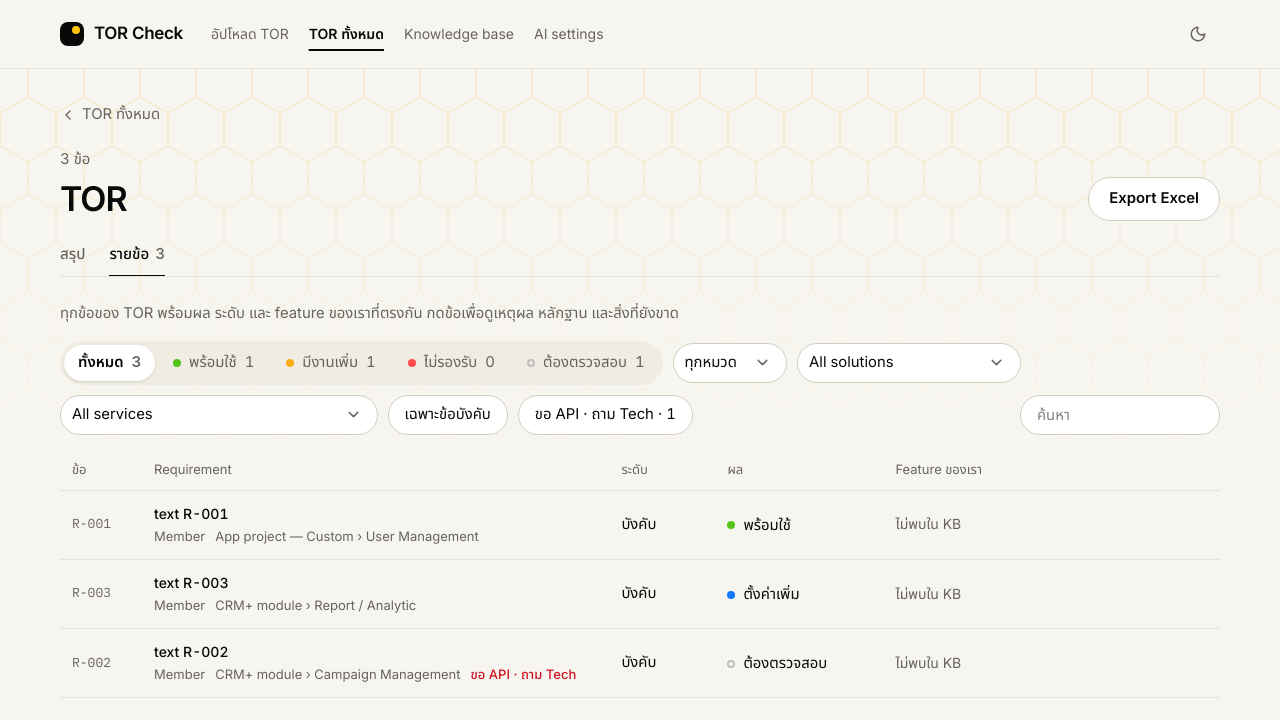
Test: solution and service in the matrix › filters by solution, by service and by the API tag, and clears them
Step 1. Select "CRM+ module" in the 2nd dropdown named "Solution" → (909, 363), box [797,343,1020,383]
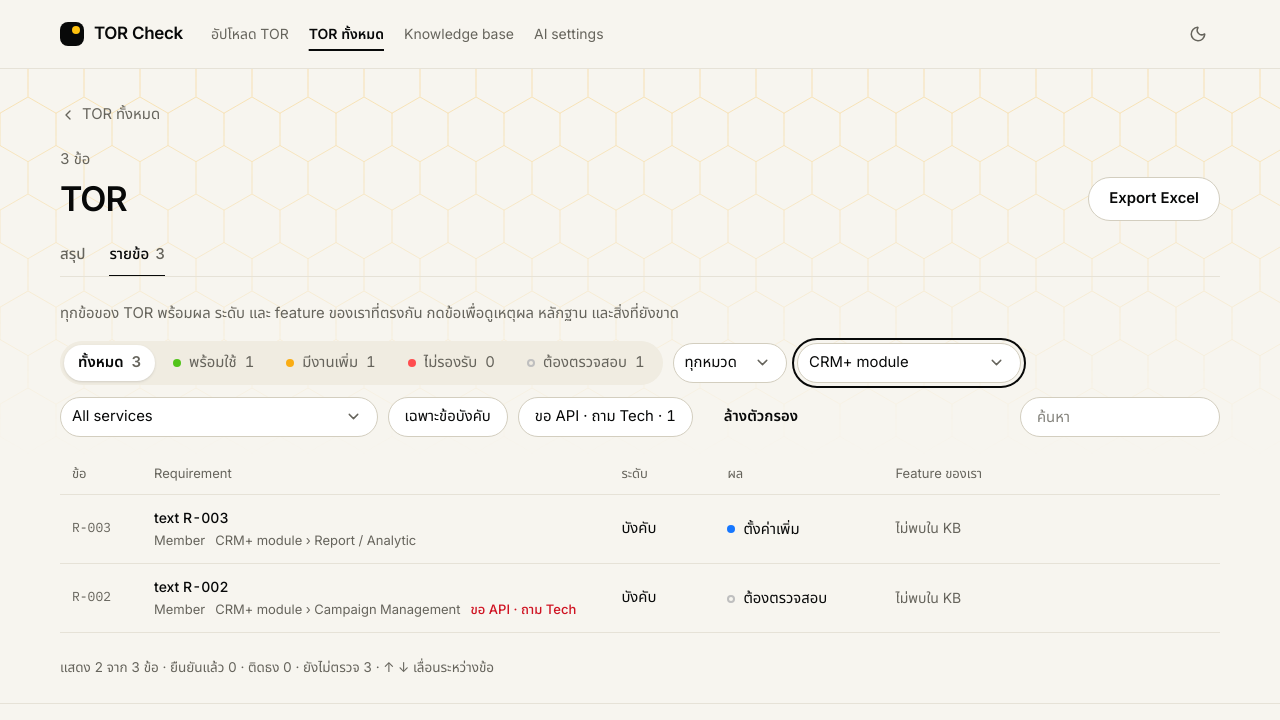
Result: the button "R-001 " is gone
Step 2. Select "Report / Analytic" in the 3rd dropdown named "Service" → (219, 417), box [60,397,378,437]
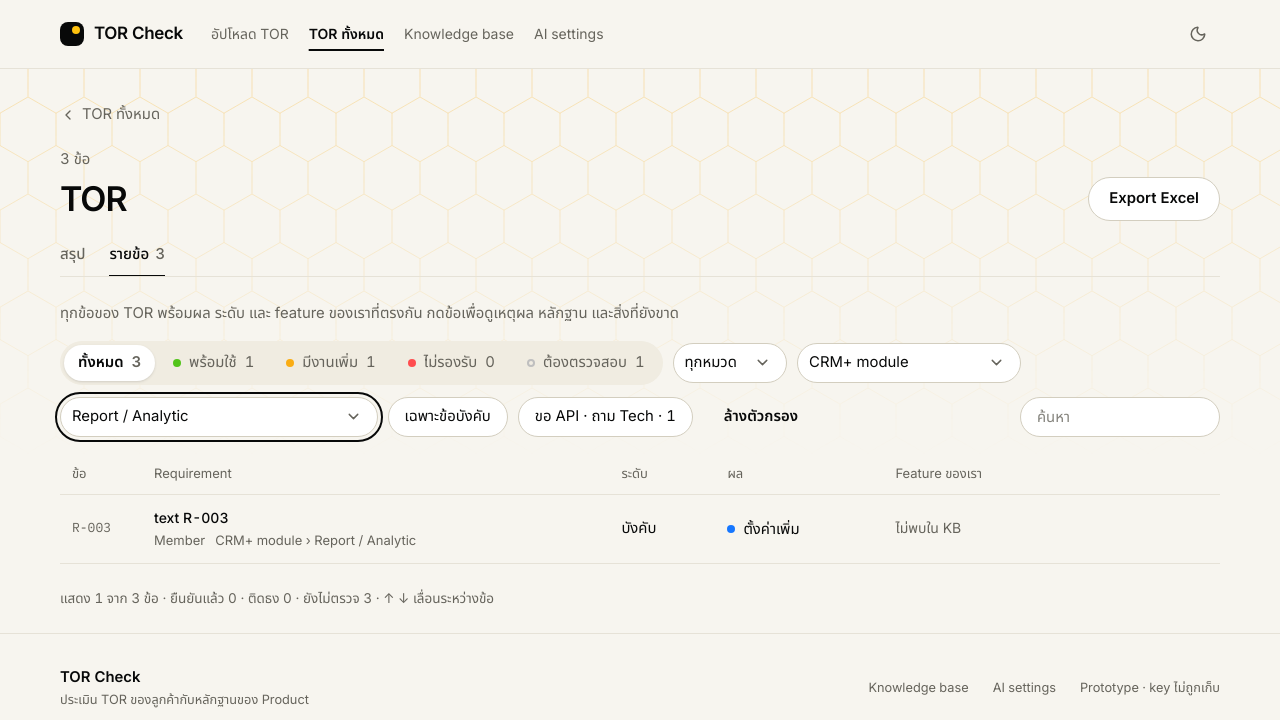
Expected: the button "R-003 " is shown, [60,494,1220,564]
Result: the button "R-002 " is gone
Step 3. Click the button "ล้างตัวกรอง" → (761, 417), box [703,395,819,439]
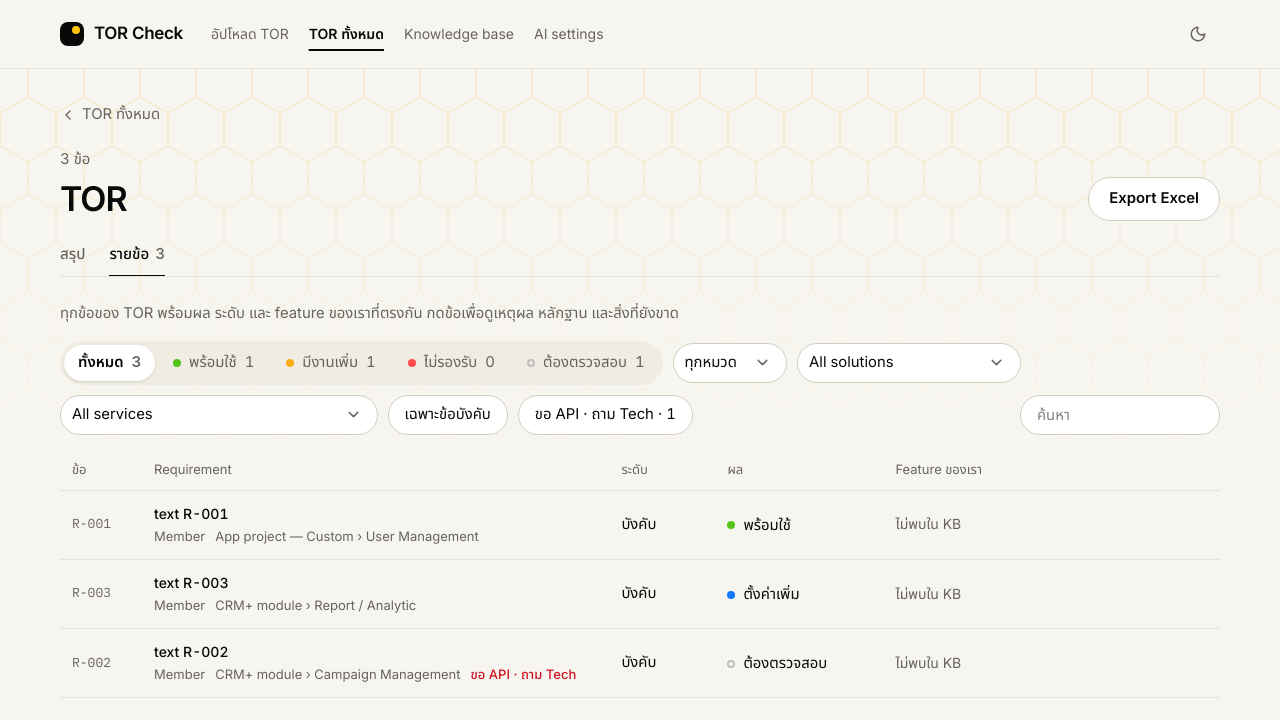
Step 4. Click the button "ขอ API · ถาม Tech · 1" → (605, 415), box [518,395,693,435]
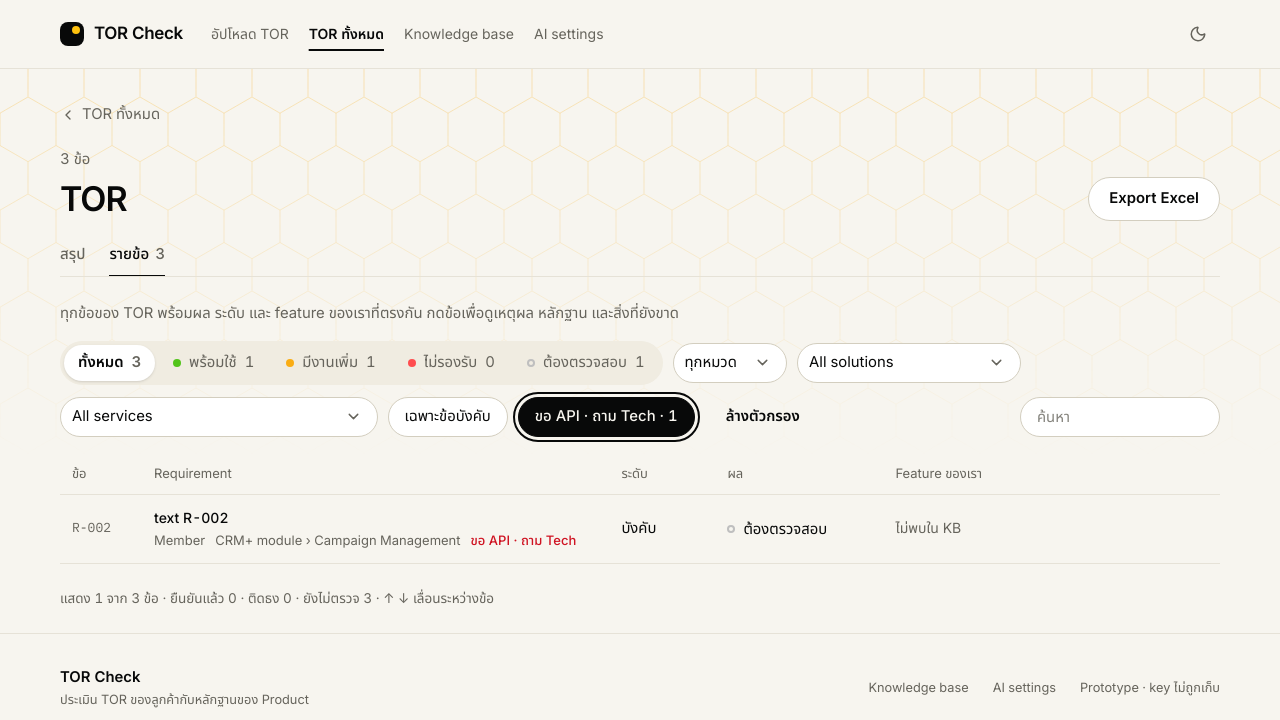
Result: the button "R-002 " is shown at [60,494,1220,564]
Result: the button "R-001 " is gone
